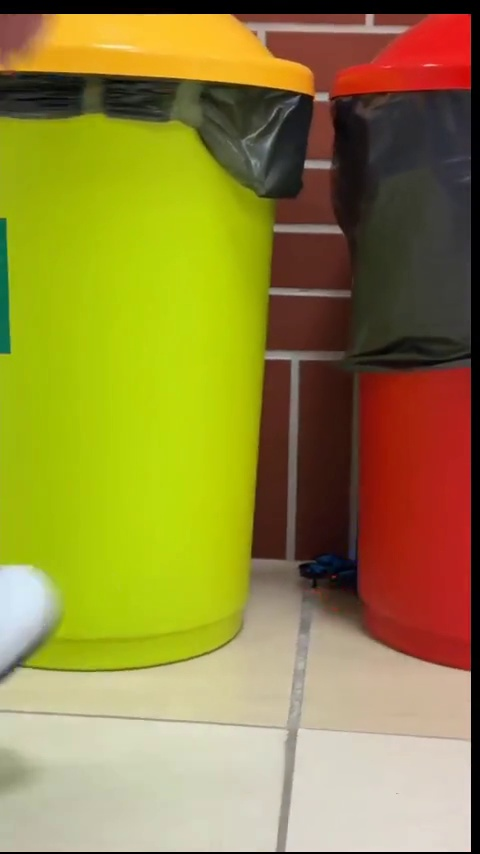drone: (299, 549, 359, 588)
